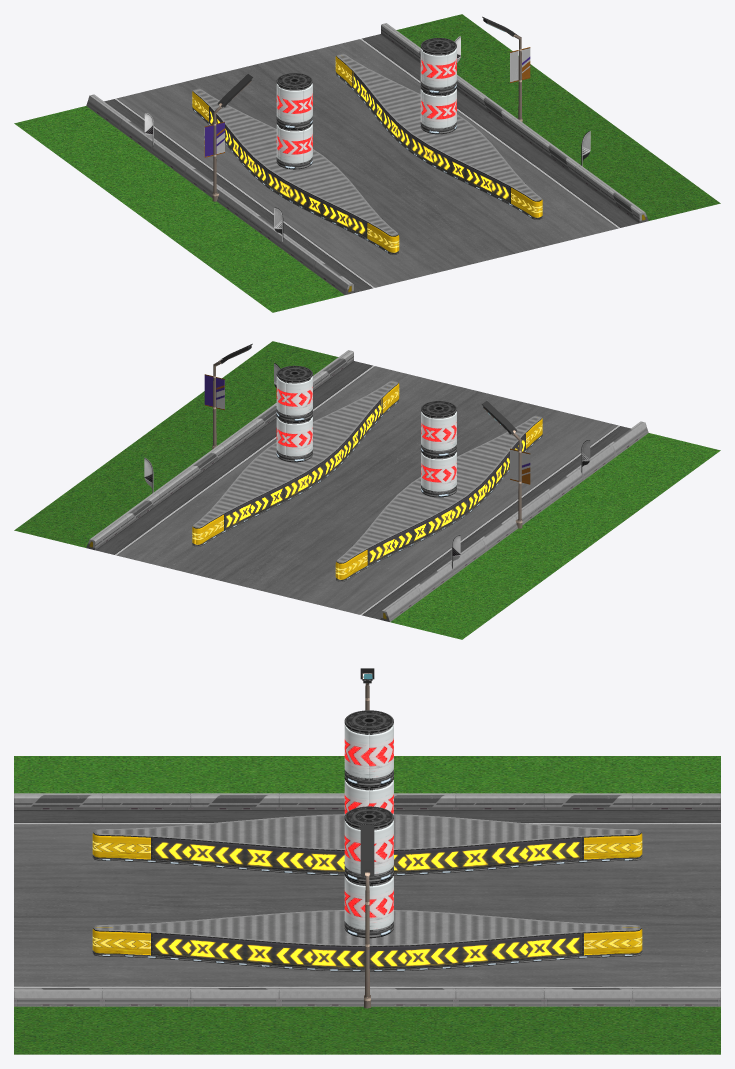
The model's file is T1 - Ground Obstacle.fbx.
3 views of the same model, one above another, from view 1: azimuth 30°, elevation 25°; view 2: azimuth 150°, elevation 25°; view 3: azimuth 270°, elevation 25° (orthographic). The views are drawn at different scales.
Parts seen in each view (by area): view 1: standard_road, standard_ground_grass, barrier, barrier_1, wall_straight_ground, pro_streetlight_banner_1, cover_3, cover, cover_1, cover_2, pro_streetlight_banner, prop_sta_street_flags (+2 smaller); view 2: standard_road, standard_ground_grass, barrier, barrier_1, wall_straight_ground, pro_streetlight_banner_1, cover_1, cover, cover_3, cover_2, pro_streetlight_banner, prop_sta_street_flags (+2 smaller); view 3: standard_road, standard_ground_grass, barrier, wall_straight_ground, barrier_1, cover_3, cover, cover_1, pro_streetlight_banner, frame_3, cover_2, frame_1.
Part boxes in pixels (bbox=[...]): standard_road: bbox=[104, 34, 639, 292]; standard_ground_grass: bbox=[14, 14, 720, 312]; barrier: bbox=[335, 53, 542, 219]; barrier_1: bbox=[192, 88, 399, 254]; wall_straight_ground: bbox=[86, 23, 648, 294]; pro_streetlight_banner_1: bbox=[204, 74, 252, 201]; cover_3: bbox=[276, 83, 312, 122]; cover: bbox=[420, 88, 456, 128]; cover_1: bbox=[420, 48, 456, 87]; cover_2: bbox=[276, 124, 312, 163]; pro_streetlight_banner: bbox=[482, 16, 530, 122]; prop_sta_street_flags: bbox=[144, 36, 590, 241]; standard_road: bbox=[95, 361, 630, 619]; standard_ground_grass: bbox=[14, 341, 720, 639]; barrier: bbox=[192, 380, 399, 546]; barrier_1: bbox=[335, 415, 542, 581]; wall_straight_ground: bbox=[86, 350, 648, 621]; pro_streetlight_banner_1: bbox=[482, 401, 530, 528]; cover_1: bbox=[276, 376, 312, 415]; cover: bbox=[276, 417, 312, 456]; cover_3: bbox=[421, 411, 456, 450]; cover_2: bbox=[421, 452, 456, 491]; pro_streetlight_banner: bbox=[204, 343, 252, 449]; prop_sta_street_flags: bbox=[144, 363, 590, 568]; standard_road: bbox=[14, 810, 720, 988]; standard_ground_grass: bbox=[14, 756, 720, 1054]; barrier: bbox=[92, 910, 642, 971]; wall_straight_ground: bbox=[14, 793, 720, 1006]; barrier_1: bbox=[92, 814, 642, 875]; cover_3: bbox=[344, 724, 393, 778]; cover: bbox=[344, 876, 393, 929]; cover_1: bbox=[344, 820, 393, 874]; pro_streetlight_banner: bbox=[360, 824, 374, 1008]; frame_3: bbox=[344, 710, 393, 780]; cover_2: bbox=[344, 780, 393, 820]; frame_1: bbox=[344, 806, 393, 876].
Size of the model in its own units: 6400 by 1591 by 6400.
